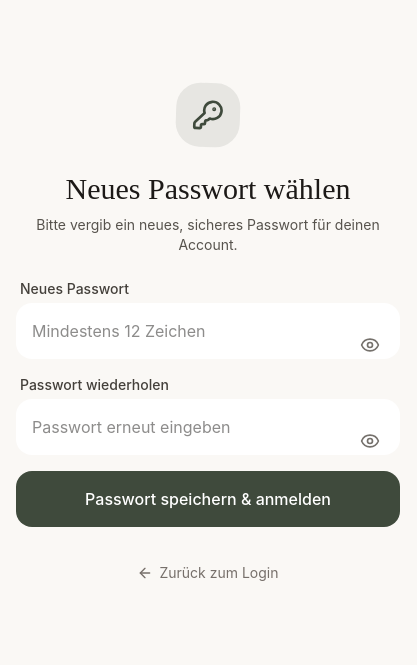
Test: ForgotPasswordForm › shows password strength indicators and validates matching passwords in reset mode
Note: Type a strong password
Type "SicheresPasswort2026!" into the password field labelled "Neues Passwort" at [208, 331], box [16, 303, 400, 359]
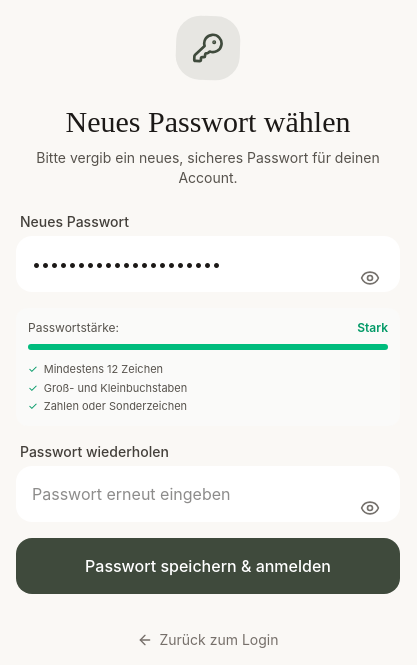
expect the text "Passwortstärke:" is shown: met, box [28, 320, 119, 336]
expect the text "Stark" is shown: met, box [357, 320, 388, 336]
Note: Type matching confirmation
Type "SicheresPasswort2026!" into the password field labelled "Passwort wiederholen" at [208, 494], box [16, 466, 400, 522]
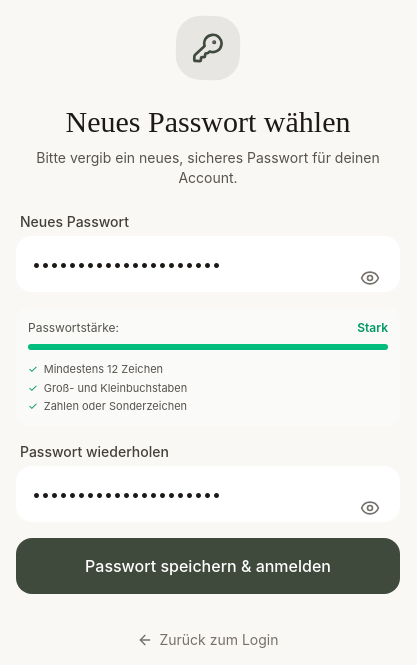
Click the button "Passwort speichern & anmelden" at [208, 566], box [16, 538, 400, 594]
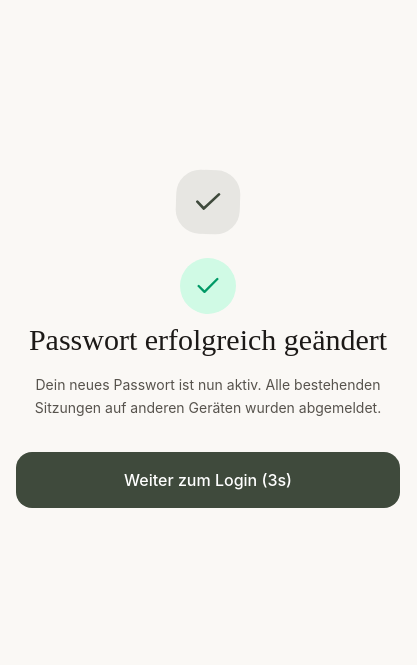
expect the heading "Passwort erfolgreich geändert" is shown: met, box [16, 322, 400, 358]
expect the text "Alle bestehenden Sitzungen auf anderen Geräten wurden abgemeldet" is shown: met, box [35, 376, 381, 416]
